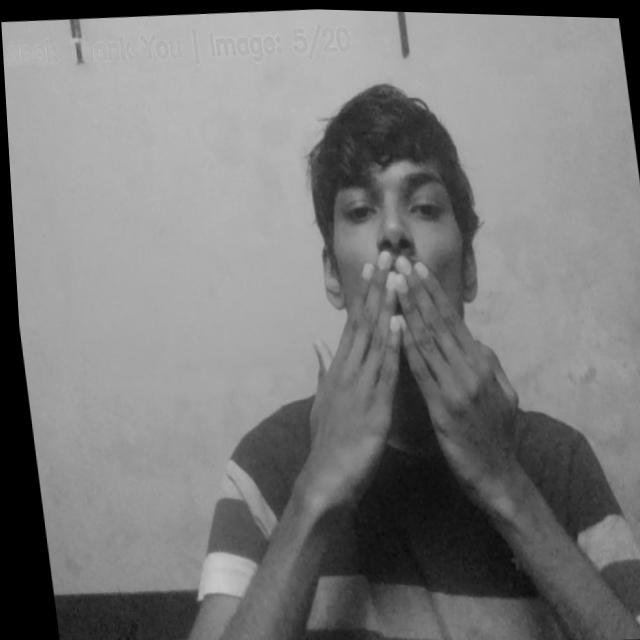Thank You: (286, 236, 539, 511)
